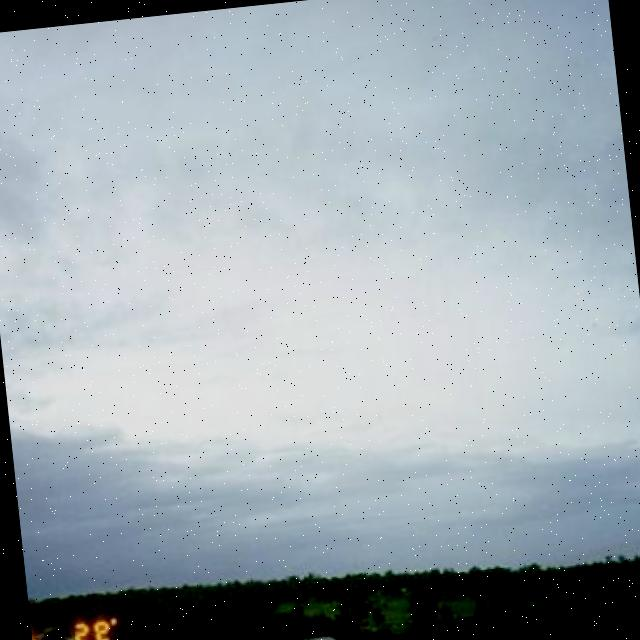Sc: (1, 1, 640, 539)
